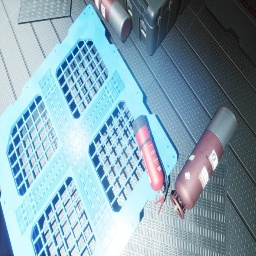FireExtinguisher ]: (133, 115, 168, 214)
NitrogenTank ,: (170, 107, 238, 219), (92, 0, 131, 42)
